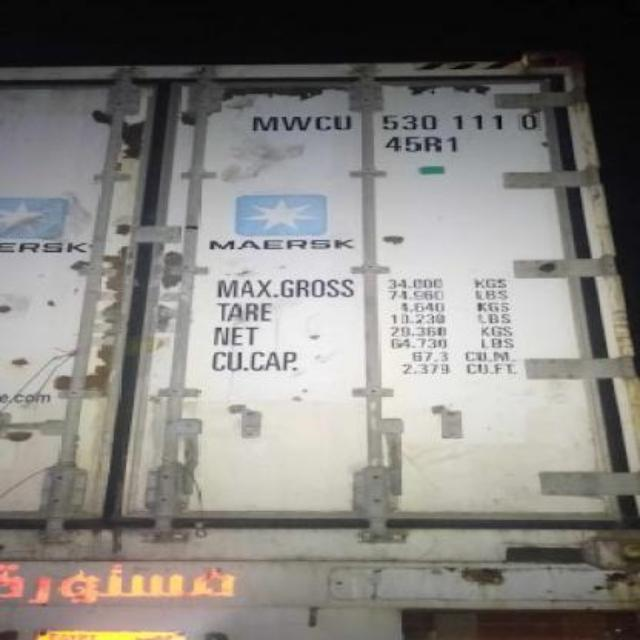0: (518, 114, 542, 130), (420, 114, 440, 130)
1: (486, 114, 508, 130), (450, 114, 470, 130), (470, 114, 486, 130)
3: (400, 114, 420, 130)
5: (382, 114, 400, 130)
C: (310, 114, 334, 130)
M: (252, 116, 280, 132)
U: (332, 113, 353, 131)
W: (278, 113, 312, 133)
